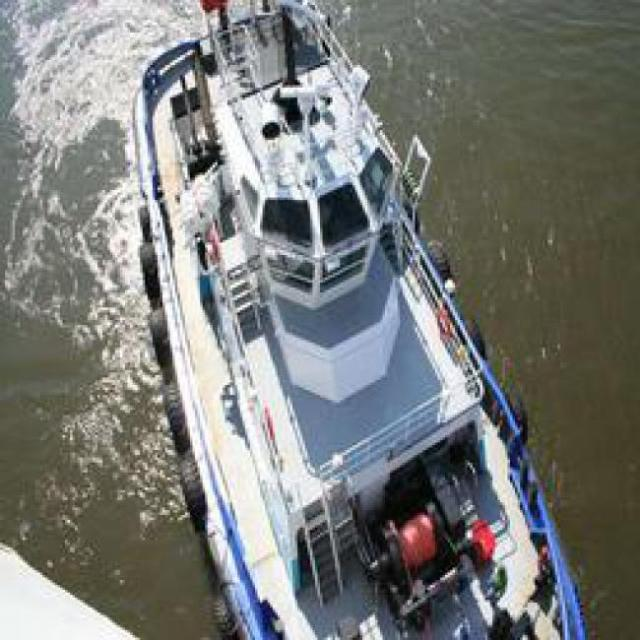boat: (110, 56, 588, 627)
